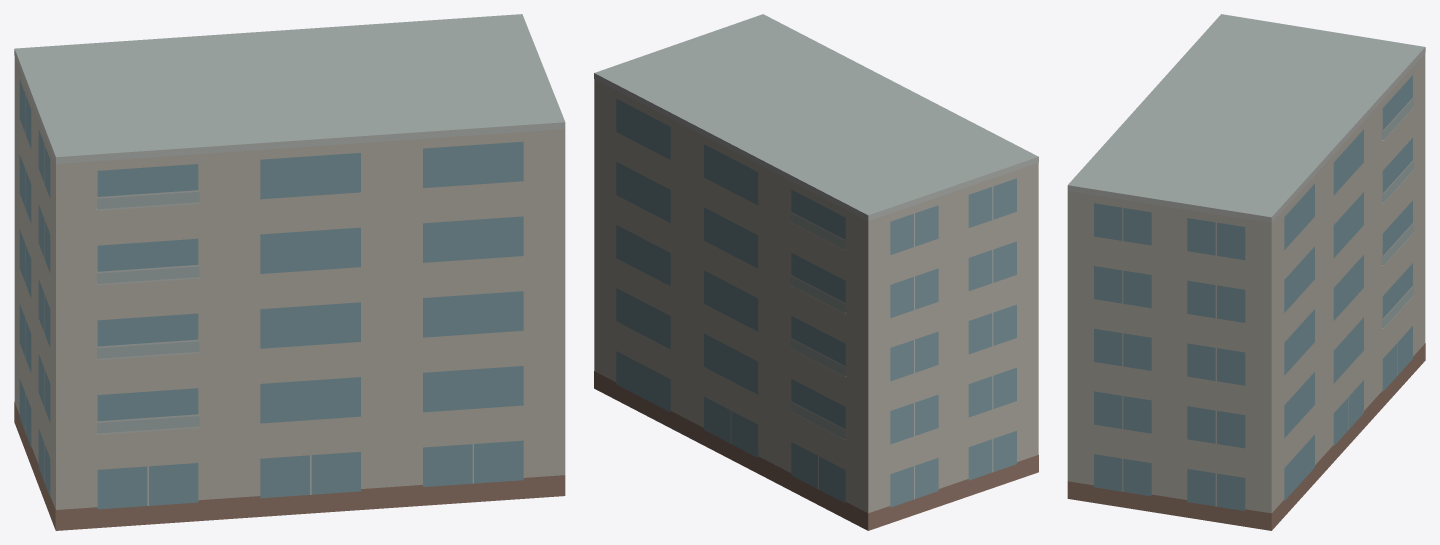
The model's file is survey-upis-32881714.glb.
3 views of the same model, side by side, from view 1: azimuth 30°, elevation 25°; view 2: azimuth 150°, elevation 25°; view 3: azimuth 270°, elevation 25° (orthographic). The views are drawn at different scales.
Parts seen in each view (by area): view 1: survey-upis-32881714.tmp; view 2: survey-upis-32881714.tmp; view 3: survey-upis-32881714.tmp.
Boxes of the visible parts, x1,y1,x2,y2 form: survey-upis-32881714.tmp: (14,14,565,530); survey-upis-32881714.tmp: (594,14,1038,530); survey-upis-32881714.tmp: (1067,14,1425,530).
Size of the model in its own units: 18.37 by 13.2 by 13.66.
